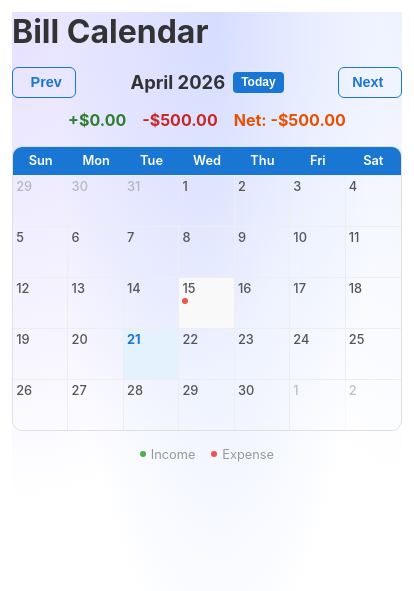
it: BillCalendarView › shows detail panel when clicking a day with events
Click the button with class "has-events": (207, 303) [179,278,235,328]
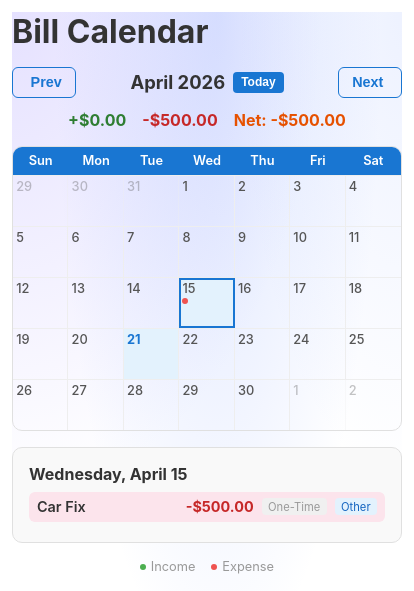
Expected: the element with class "day-detail" is shown, [12,447,402,543]
Expected: the text "Car Fix" is shown, [37,498,86,515]
